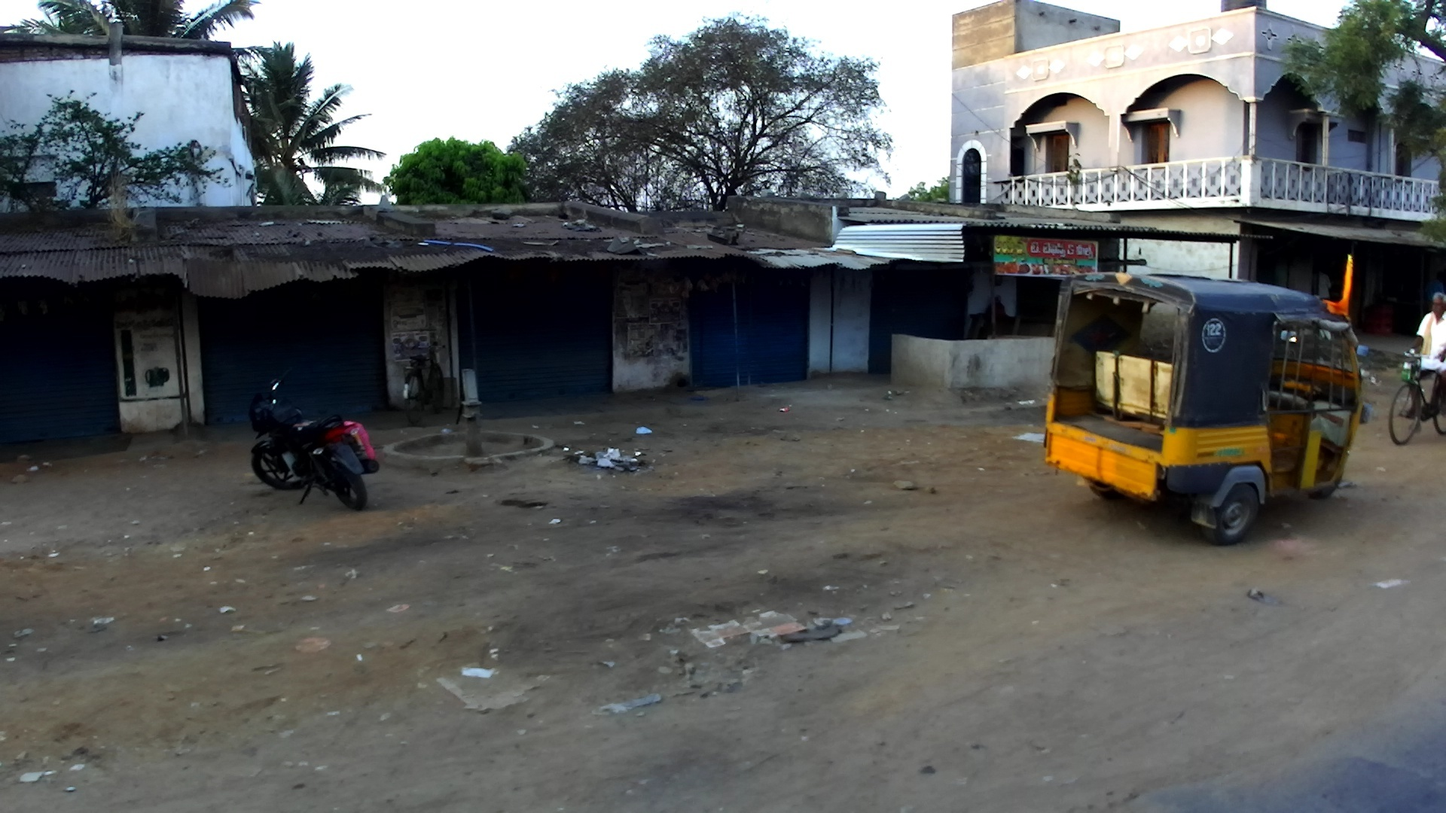autorickshaw: (1042, 257, 1371, 547)
bicycle: (1387, 348, 1446, 446), (398, 342, 446, 425)
motorcycle: (249, 368, 380, 513)
rider: (1404, 292, 1446, 419)
